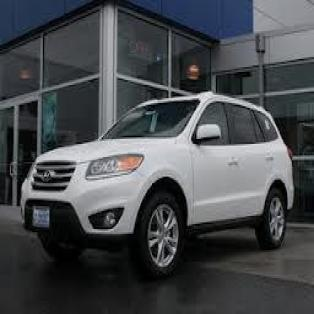Auto: (23, 94, 297, 264)
